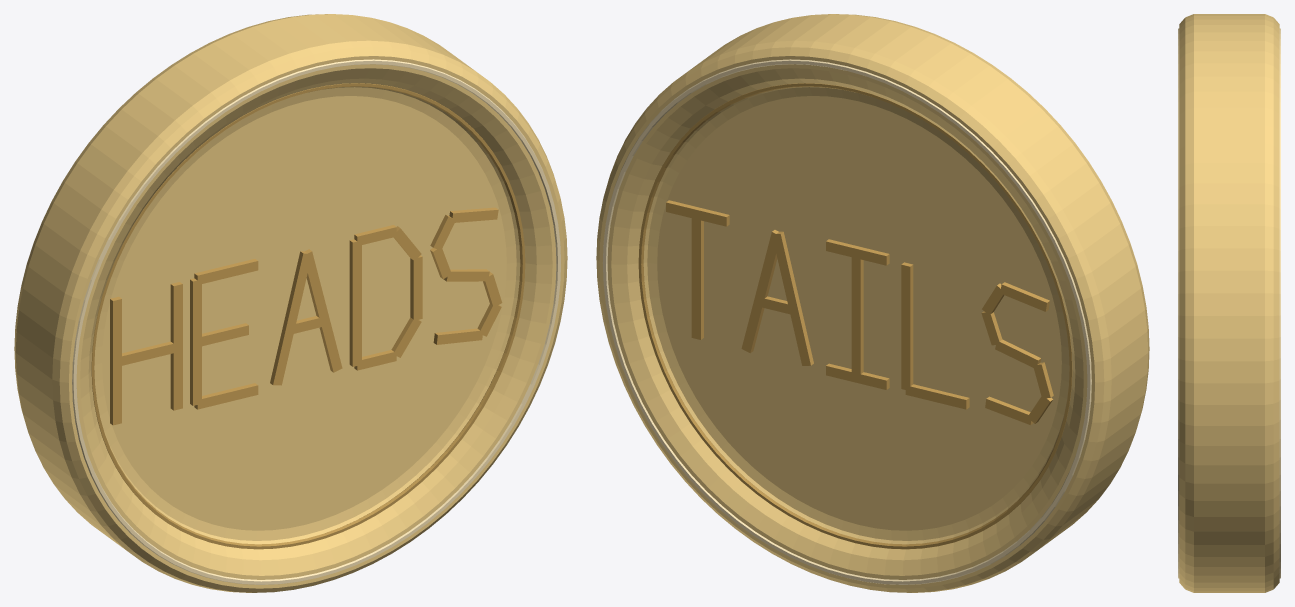
The model's file is blockbet-gold-heads-tails.glb.
The picture shows the model from 3 angles, left to right: view 1: azimuth 30°, elevation 25°; view 2: azimuth 150°, elevation 25°; view 3: azimuth 270°, elevation 25°; orthographic projection. The views are drawn at different scales.
Parts seen in each view (by area): view 1: SOLID_GOLD_COIN, HEADS_EMBOSSED_3D_TEXT, HEADS_POLISHED_RIM, HEADS_INNER_ENGRAVED_CIRCLE; view 2: SOLID_GOLD_COIN, TAILS_EMBOSSED_3D_TEXT, TAILS_POLISHED_RIM, TAILS_INNER_ENGRAVED_CIRCLE; view 3: SOLID_GOLD_COIN, HEADS_POLISHED_RIM, TAILS_POLISHED_RIM.
Part boxes in pixels (x1,y1,x2,y2): SOLID_GOLD_COIN: (14,14,567,592); HEADS_EMBOSSED_3D_TEXT: (110,207,502,425); HEADS_POLISHED_RIM: (72,59,560,584); HEADS_INNER_ENGRAVED_CIRCLE: (91,83,525,549); SOLID_GOLD_COIN: (596,14,1149,592); TAILS_EMBOSSED_3D_TEXT: (666,200,1053,424); TAILS_POLISHED_RIM: (603,59,1091,584); TAILS_INNER_ENGRAVED_CIRCLE: (638,83,1072,549); SOLID_GOLD_COIN: (1179,14,1279,592); HEADS_POLISHED_RIM: (1178,28,1179,578); TAILS_POLISHED_RIM: (1279,28,1280,578).
Size of the model in its own units: 2.03 by 2.03 by 0.3608.
